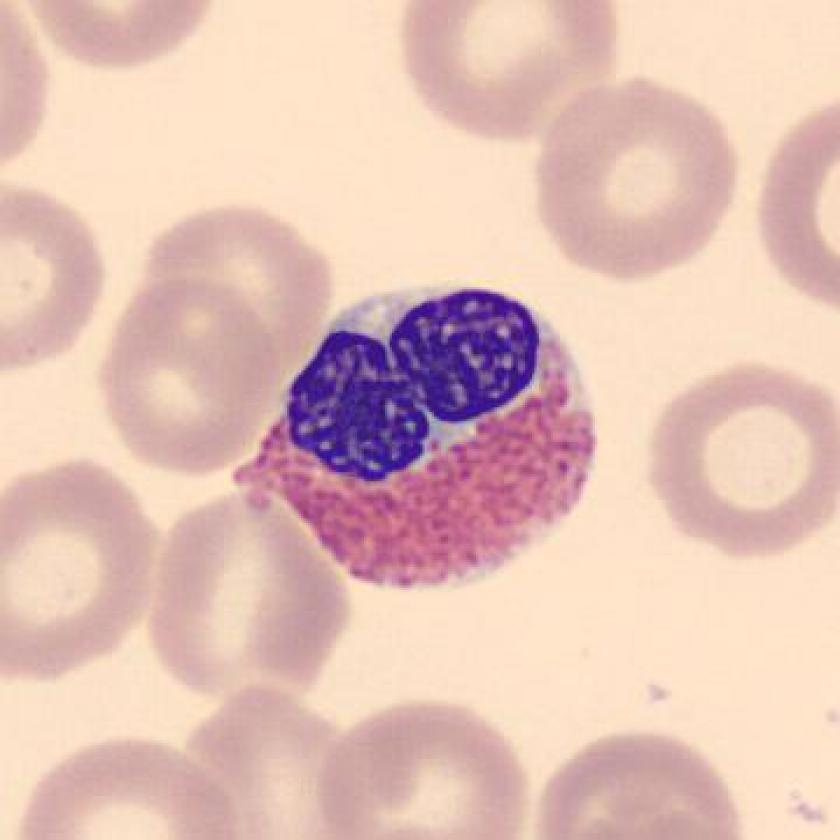eosinophil: (218, 270, 610, 603)
